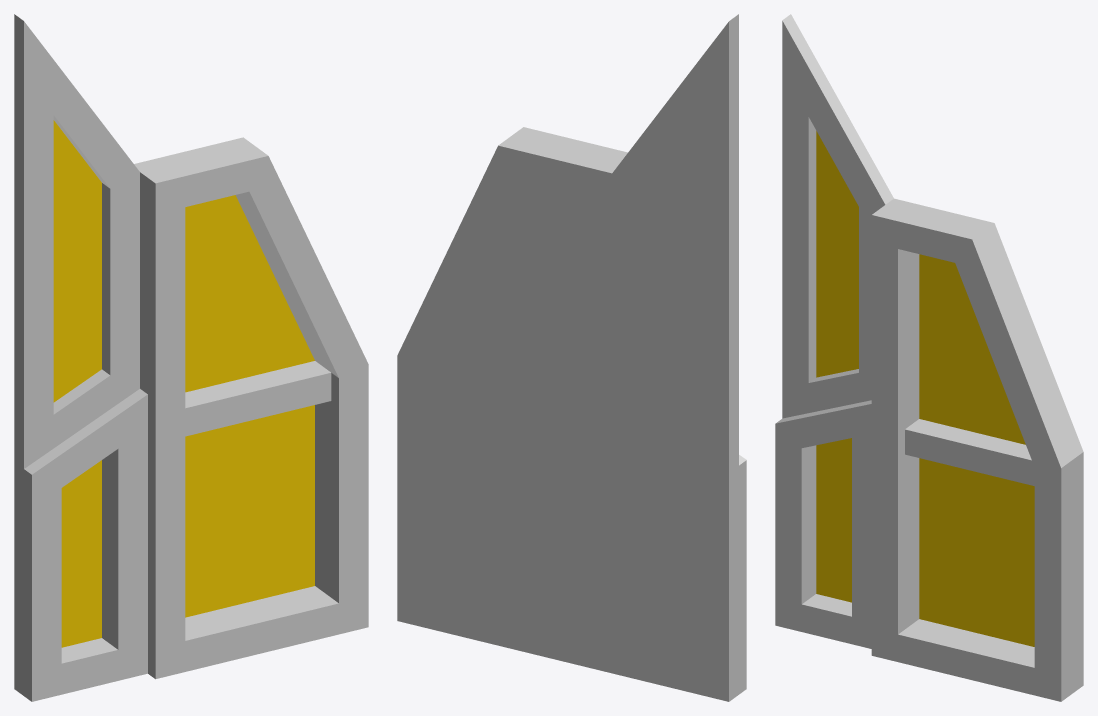
The model's file is Prop_Gothic_Decoration_Window_Side_01.FBX.
3 renders of one model, left to right at view 1: azimuth 30°, elevation 25°; view 2: azimuth 150°, elevation 25°; view 3: azimuth 330°, elevation 25°, orthographic. The views are drawn at different scales.
Visible parts, largest first — view 1: Prop_Gothic_Decoration_Window_Side_01; view 2: Prop_Gothic_Decoration_Window_Side_01; view 3: Prop_Gothic_Decoration_Window_Side_01.
Part boxes in pixels (x1,y1,x2,y2): Prop_Gothic_Decoration_Window_Side_01: [14, 14, 368, 701]; Prop_Gothic_Decoration_Window_Side_01: [397, 14, 746, 701]; Prop_Gothic_Decoration_Window_Side_01: [775, 14, 1083, 701].
Bounding box in the file's own units: 735 × 1441 × 97.55.
